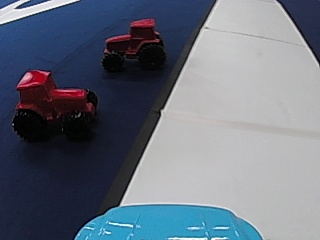tractor: (9, 65, 95, 142), (101, 17, 167, 72)
